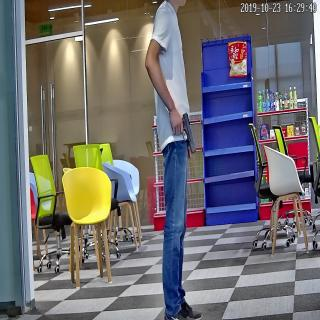gun: (166, 108, 196, 157)
